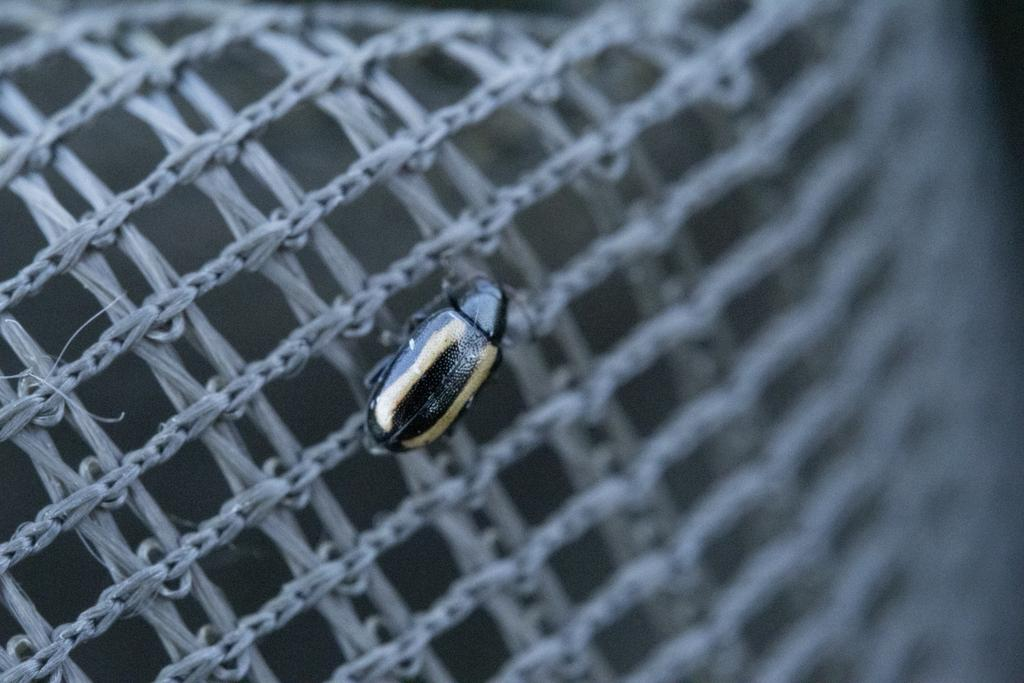flea_beetle: (306, 237, 569, 475)
